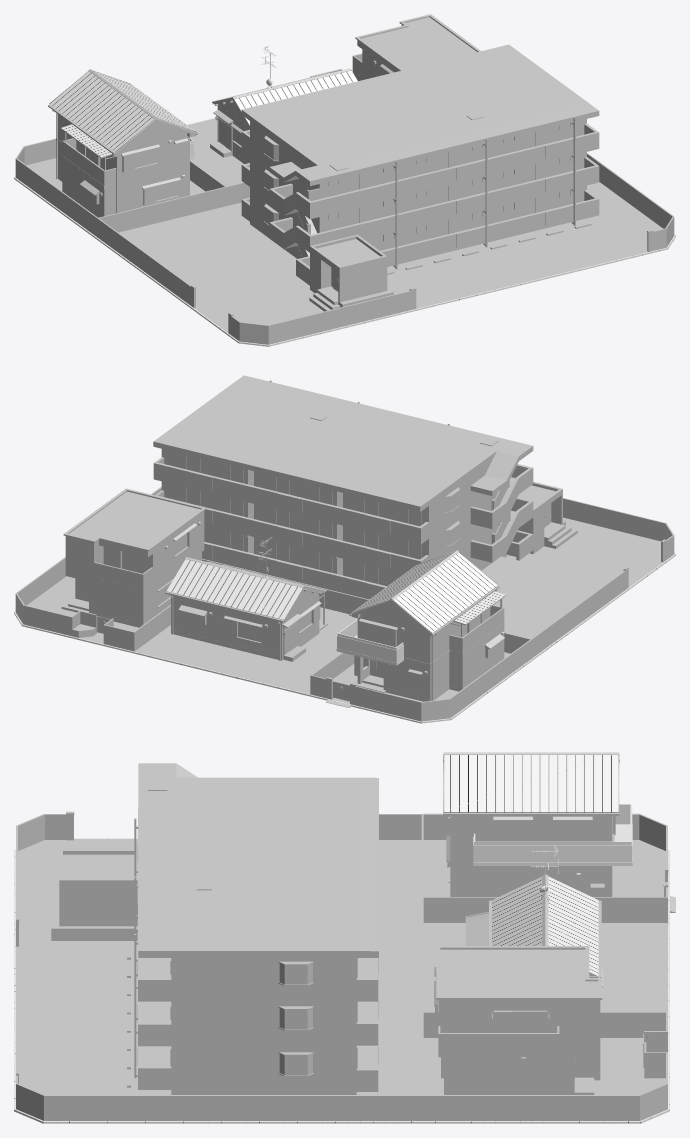
File: Street_B.fbx
The picture shows the model from 3 angles, top to bottom: view 1: azimuth 30°, elevation 25°; view 2: azimuth 150°, elevation 25°; view 3: azimuth 270°, elevation 25°; orthographic projection. The views are drawn at different scales.
Visible parts, largest first — view 1: Street_B; view 2: Street_B; view 3: Street_B.
Part boxes in pixels (bbox=[...]): Street_B: bbox=[14, 14, 675, 346]; Street_B: bbox=[14, 375, 675, 723]; Street_B: bbox=[14, 752, 675, 1123].
Bounding box in the file's own units: 3380 × 817 × 3333.
